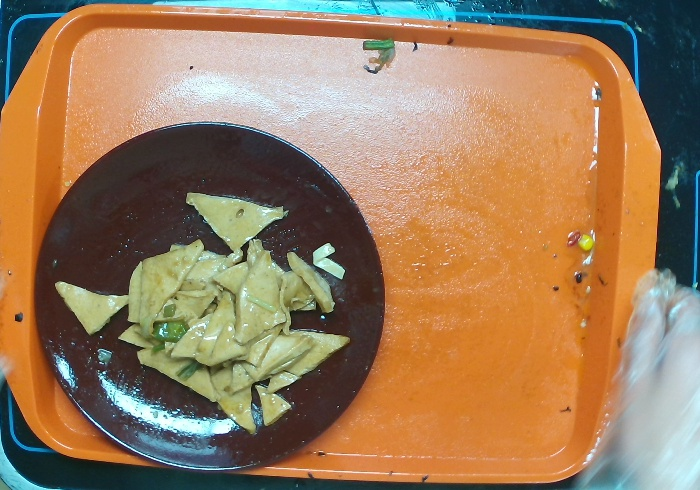HZYJPL-Ka_Fei_Yuan_Pan: (33, 120, 386, 471)
